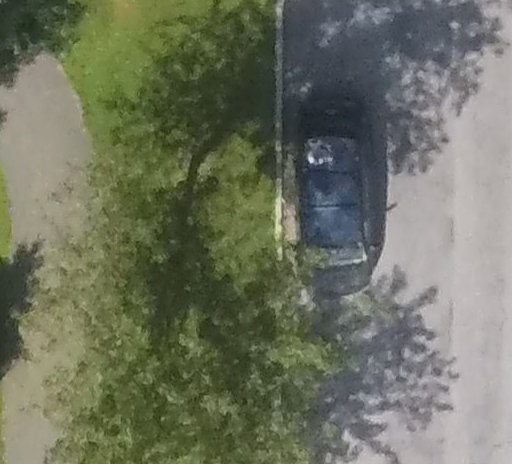car: (290, 70, 378, 279)
